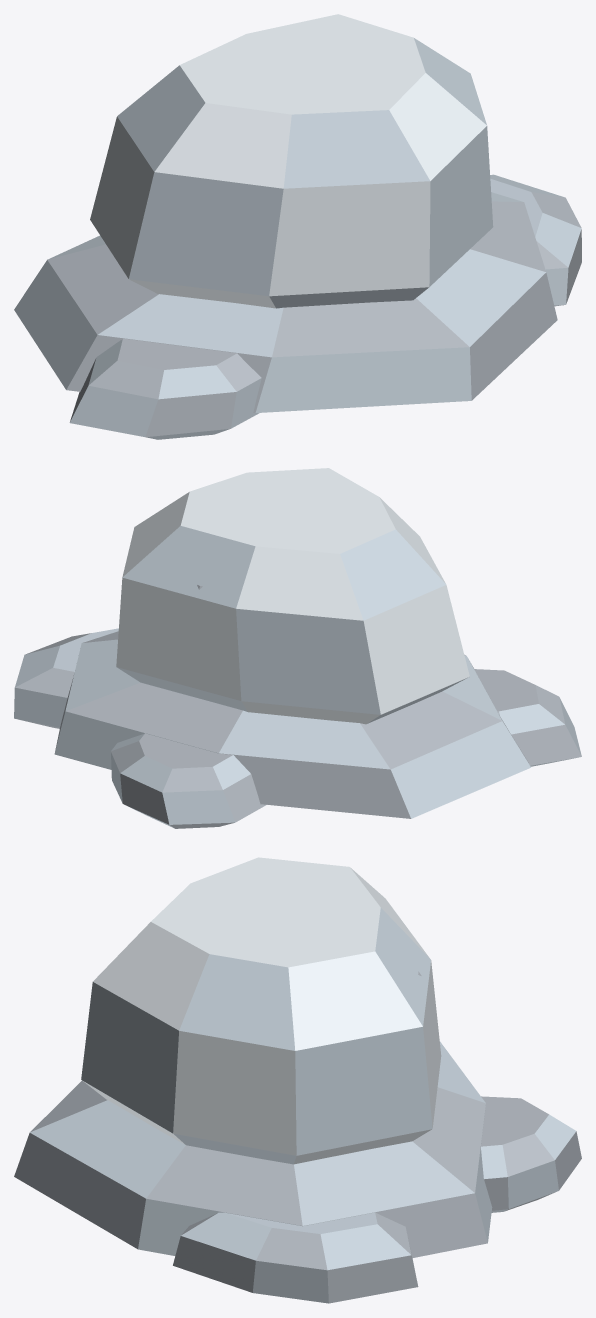
File: BH_ORE_O07_Pedra_Lunar_V01.glb
The picture shows the model from 3 angles, top to bottom: view 1: azimuth 30°, elevation 25°; view 2: azimuth 150°, elevation 25°; view 3: azimuth 270°, elevation 25°; orthographic projection. The views are drawn at different scales.
Parts seen in each view (by area): view 1: Moonstone dome.001, Bedrock | primary.001, Bedrock | shoulder 1.001, Bedrock | shoulder 2.001; view 2: Moonstone dome.001, Bedrock | primary.001, Bedrock | shoulder 3.001, Bedrock | shoulder 1.001, Bedrock | shoulder 2.001; view 3: Moonstone dome.001, Bedrock | primary.001, Bedrock | shoulder 2.001, Bedrock | shoulder 3.001.
Part boxes in pixels (x1,y1,x2,y2): Moonstone dome.001: [90, 14, 493, 308]; Bedrock | primary.001: [14, 192, 557, 412]; Bedrock | shoulder 1.001: [69, 338, 261, 439]; Bedrock | shoulder 2.001: [490, 174, 581, 306]; Moonstone dome.001: [116, 468, 469, 724]; Bedrock | primary.001: [54, 631, 530, 818]; Bedrock | shoulder 3.001: [111, 733, 266, 828]; Bedrock | shoulder 1.001: [474, 669, 581, 766]; Bedrock | shoulder 2.001: [14, 628, 118, 728]; Moonstone dome.001: [81, 857, 441, 1164]; Bedrock | primary.001: [14, 1041, 492, 1258]; Bedrock | shoulder 2.001: [173, 1212, 418, 1303]; Bedrock | shoulder 3.001: [481, 1096, 581, 1212].
Size of the model in its own units: 2.51 by 1.13 by 2.14.
